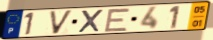1: (168, 5, 182, 30), (23, 11, 36, 36)
4: (139, 5, 160, 32)
E: (103, 8, 132, 33)
V: (48, 9, 75, 36)
X: (77, 8, 105, 34)
